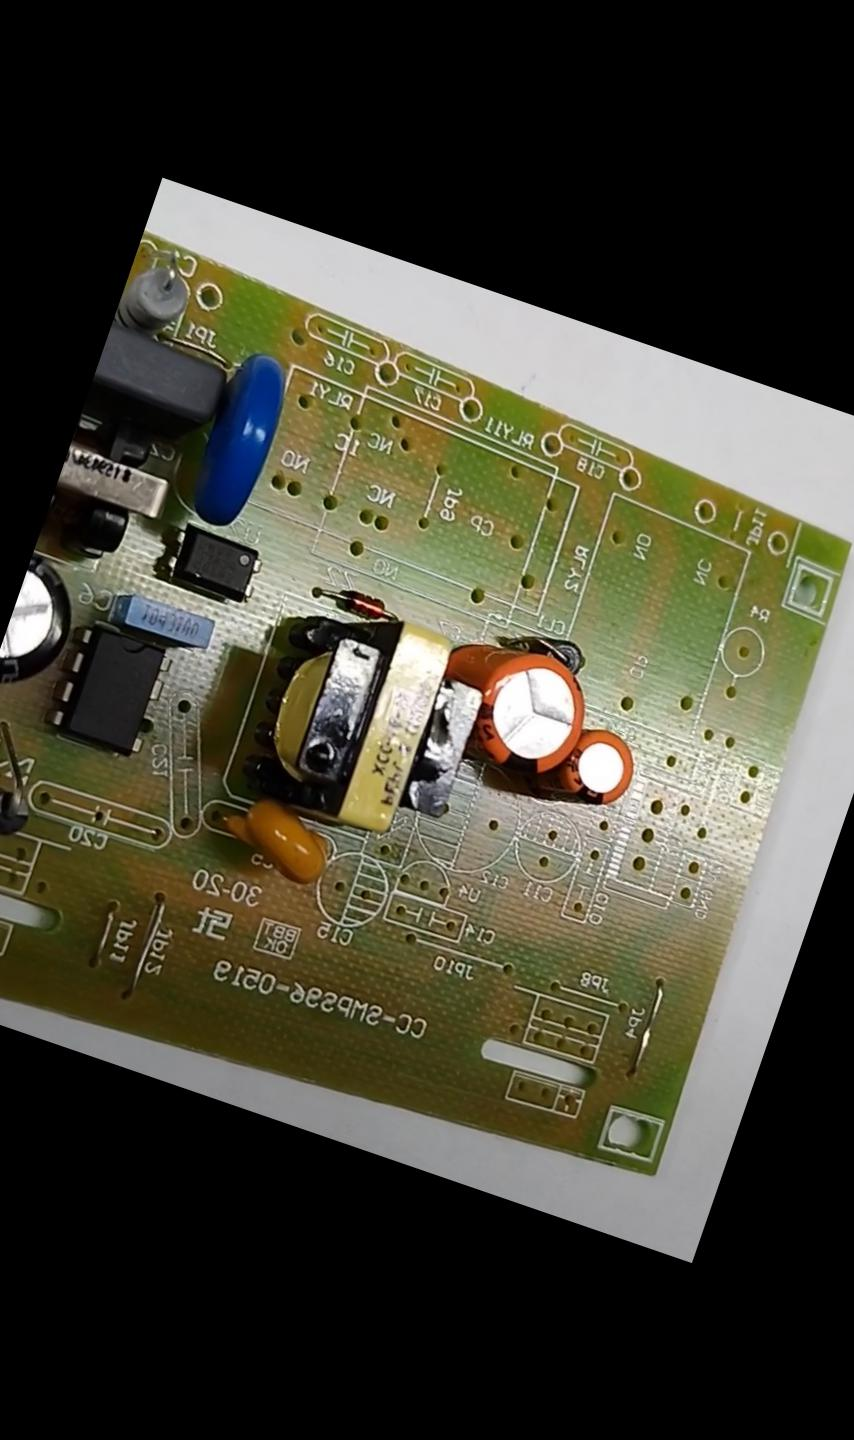Cap1: (462, 639, 597, 782)
Cap2: (556, 722, 640, 813)
Cap3: (0, 554, 86, 690)
MOSFET: (46, 622, 177, 759)
Mov: (192, 345, 301, 529)
Resistor: (114, 248, 197, 338)
Transformer: (230, 585, 495, 853), (41, 402, 177, 563)
